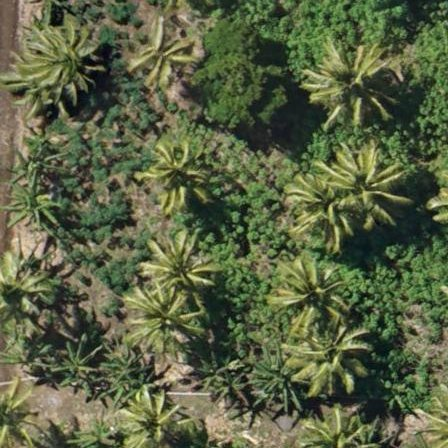palm_tree: (16, 20, 97, 107), (283, 317, 362, 400), (313, 42, 389, 123), (124, 276, 196, 353), (331, 145, 403, 222), (136, 140, 211, 213), (127, 11, 197, 85), (284, 175, 357, 244), (113, 387, 192, 448), (148, 228, 215, 299), (278, 258, 342, 326), (1, 244, 51, 331)
